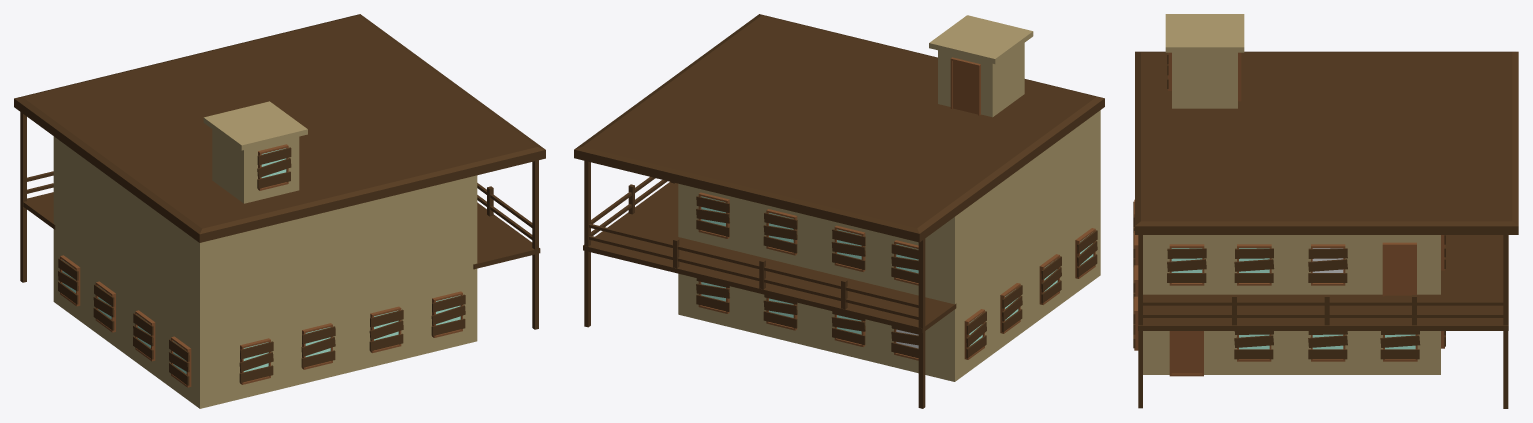
The model's file is generic_house_edge1.fbx.
3 renders of one model, left to right at view 1: azimuth 30°, elevation 25°; view 2: azimuth 150°, elevation 25°; view 3: azimuth 270°, elevation 25°, orthographic. The views are drawn at different scales.
Parts seen in each view (by area): view 1: Cube.261; view 2: Cube.261; view 3: Cube.261.
Boxes of the visible parts, x1,y1,x2,y2 form: Cube.261: (14, 14, 545, 408); Cube.261: (574, 14, 1104, 408); Cube.261: (1133, 14, 1518, 408).
Bounding box in the file's own units: 4212 × 2815 × 3901.
